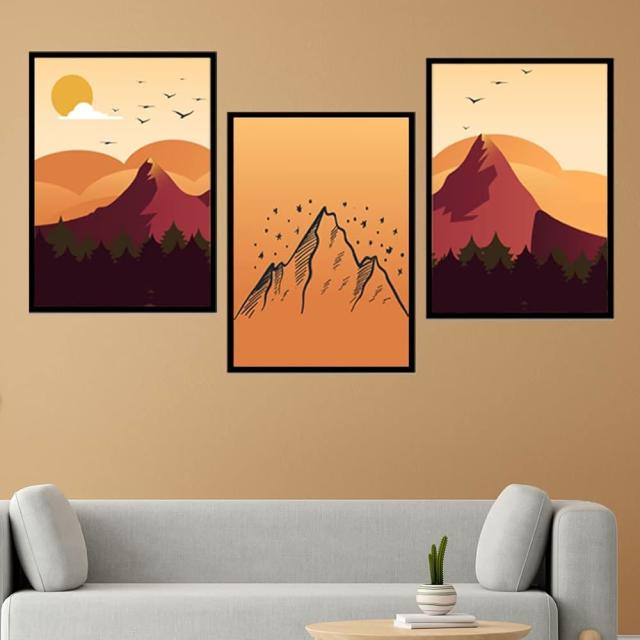painting: (30, 50, 218, 314), (228, 113, 416, 377), (428, 58, 615, 323)
